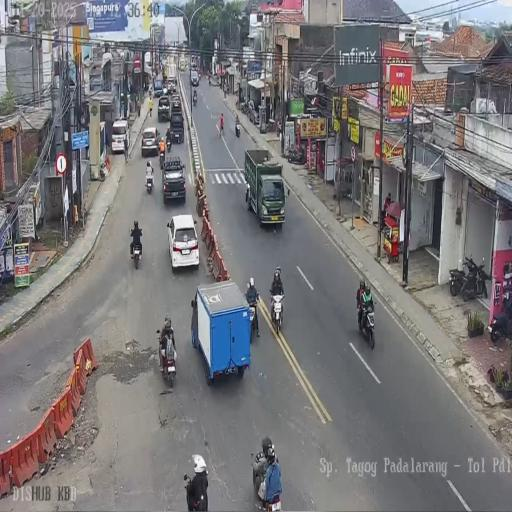3: (191, 282, 251, 384), (243, 148, 285, 228), (166, 61, 177, 86), (144, 51, 152, 76)
car: (167, 212, 200, 271), (161, 156, 187, 203), (111, 118, 130, 155), (142, 126, 160, 158), (158, 95, 172, 121), (169, 92, 181, 112), (153, 78, 163, 96), (190, 70, 199, 86), (179, 58, 188, 72), (161, 86, 169, 97)
truck: (460, 254, 487, 302), (156, 327, 176, 387), (490, 296, 512, 343), (358, 294, 376, 349), (270, 289, 286, 336), (247, 291, 260, 341), (130, 230, 143, 268), (286, 143, 306, 165), (248, 100, 259, 124), (145, 168, 154, 194), (158, 146, 166, 168), (240, 98, 250, 115), (276, 118, 282, 138), (166, 132, 172, 152), (235, 119, 240, 137), (192, 90, 198, 105), (208, 75, 211, 86), (199, 72, 201, 83)
